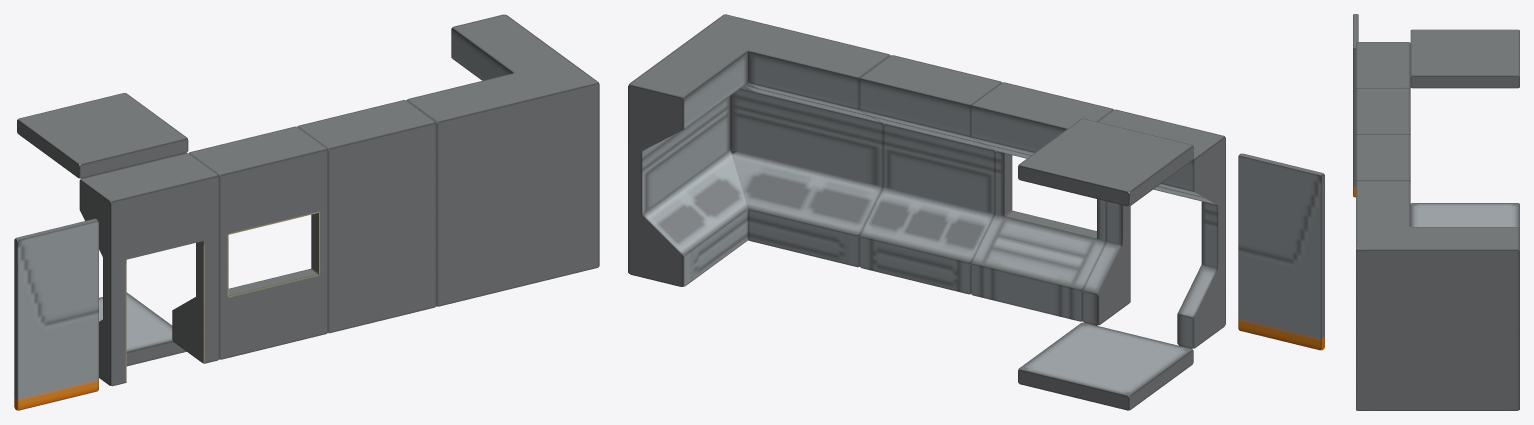
Rendered from SciFi_Walls.fbx.
The picture shows the model from 3 angles, left to right: view 1: azimuth 30°, elevation 25°; view 2: azimuth 150°, elevation 25°; view 3: azimuth 270°, elevation 25°; orthographic projection. The views are drawn at different scales.
Parts seen in each view (by area): view 1: ConnerWall, Wall, WindowWall, DoorWall, Door, Roof, Ground; view 2: ConnerWall, Wall, WindowWall, Door, DoorWall, Roof, Ground; view 3: ConnerWall, Roof, Ground, Wall, DoorWall, WindowWall, Door.
Boxes of the visible parts, left/top/right/bottom form: ConnerWall: left=406, top=14, right=599, bottom=306; Wall: left=297, top=100, right=436, bottom=333; WindowWall: left=189, top=126, right=327, bottom=359; DoorWall: left=79, top=153, right=219, bottom=386; Door: left=14, top=218, right=98, bottom=410; Roof: left=17, top=93, right=188, bottom=178; Ground: left=99, top=292, right=186, bottom=366; ConnerWall: left=628, top=14, right=890, bottom=286; Wall: left=859, top=55, right=1001, bottom=294; WindowWall: left=971, top=82, right=1113, bottom=321; Door: left=1238, top=153, right=1324, bottom=350; DoorWall: left=1082, top=109, right=1225, bottom=348; Roof: left=1018, top=118, right=1193, bottom=206; Ground: left=1018, top=322, right=1193, bottom=410; ConnerWall: left=1356, top=180, right=1519, bottom=410; Roof: left=1410, top=29, right=1519, bottom=88; Ground: left=1410, top=203, right=1519, bottom=227; Wall: left=1356, top=134, right=1410, bottom=250; DoorWall: left=1356, top=42, right=1410, bottom=134; WindowWall: left=1356, top=88, right=1410, bottom=134; Door: left=1353, top=14, right=1358, bottom=197.
Bounding box in the file's own units: 1075 × 375 × 305.
